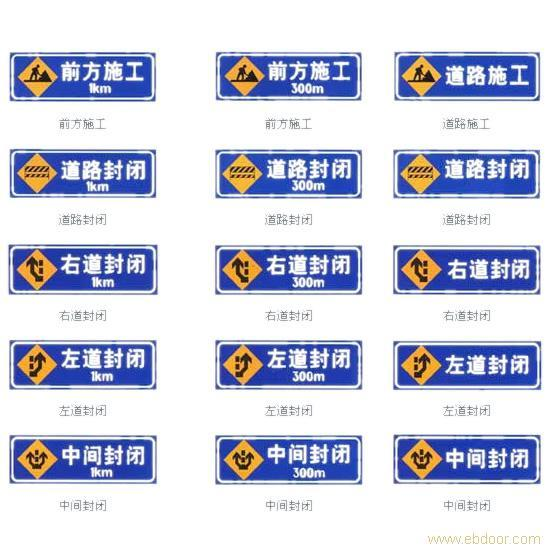sign: (215, 247, 365, 296), (395, 149, 541, 199), (394, 245, 540, 295), (217, 435, 362, 485), (213, 152, 363, 199), (218, 51, 361, 100), (9, 246, 156, 293), (11, 54, 157, 101), (395, 341, 540, 388), (395, 435, 540, 482), (10, 437, 157, 483), (11, 152, 154, 199), (216, 343, 362, 389), (10, 343, 155, 389), (396, 53, 537, 99)
